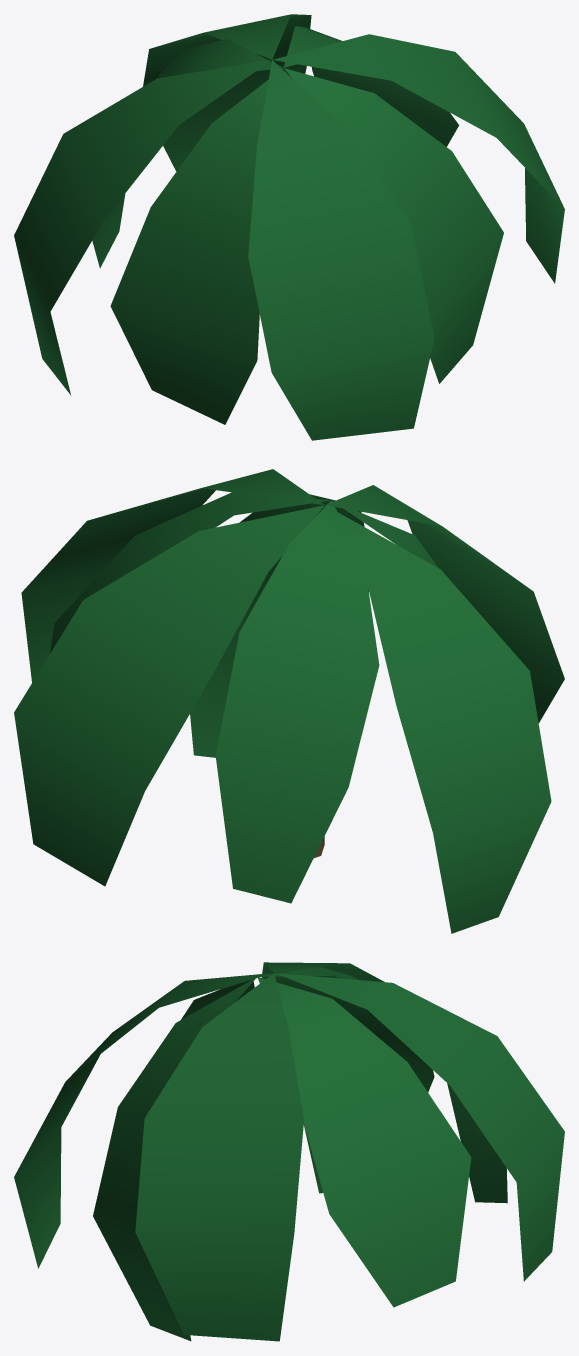
File: 001_Bush_palmbush_001.fbx
3 views of the same model, one above another, from view 1: azimuth 30°, elevation 25°; view 2: azimuth 150°, elevation 25°; view 3: azimuth 270°, elevation 25° (orthographic). The views are drawn at different scales.
Visible parts, largest first — view 1: polySurface5; view 2: polySurface5; view 3: polySurface5.
Part boxes in pixels (x1,y1,x2,y2): polySurface5: (14,14,564,440); polySurface5: (14,469,564,933); polySurface5: (14,962,564,1341).
Size of the model in its own units: 1.66 by 1.11 by 1.68.
